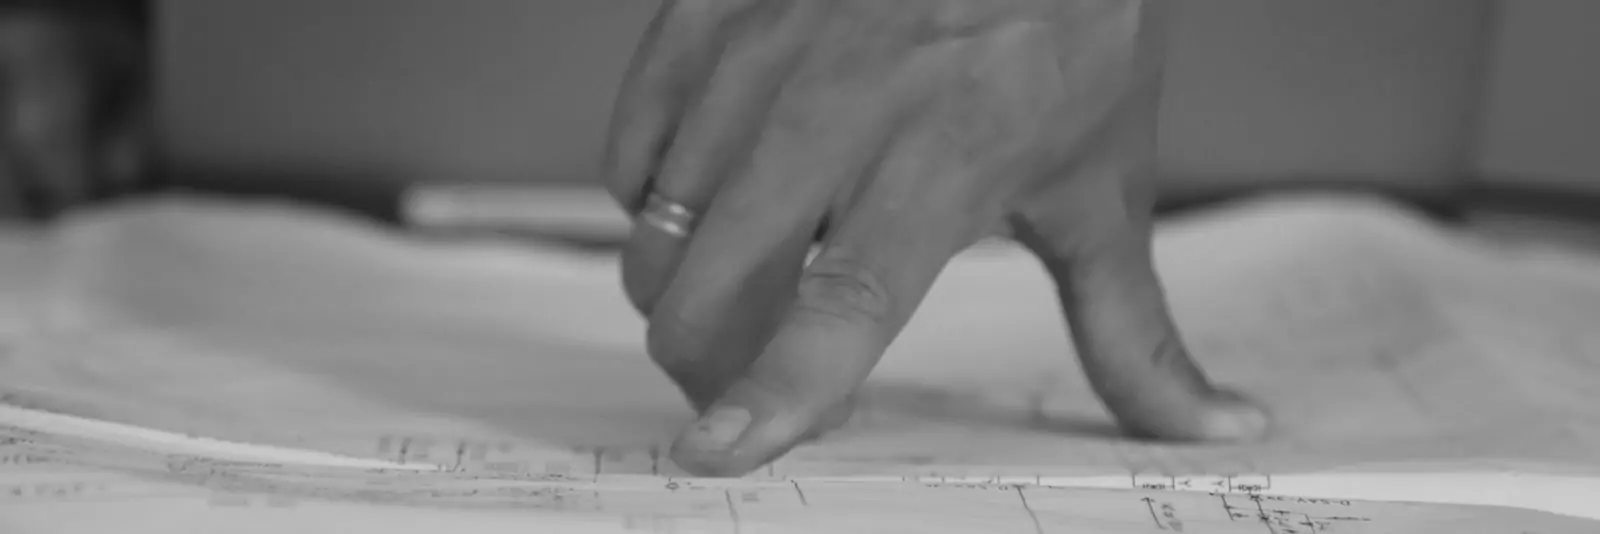pointing_gesture: (612, 9, 1283, 478)
